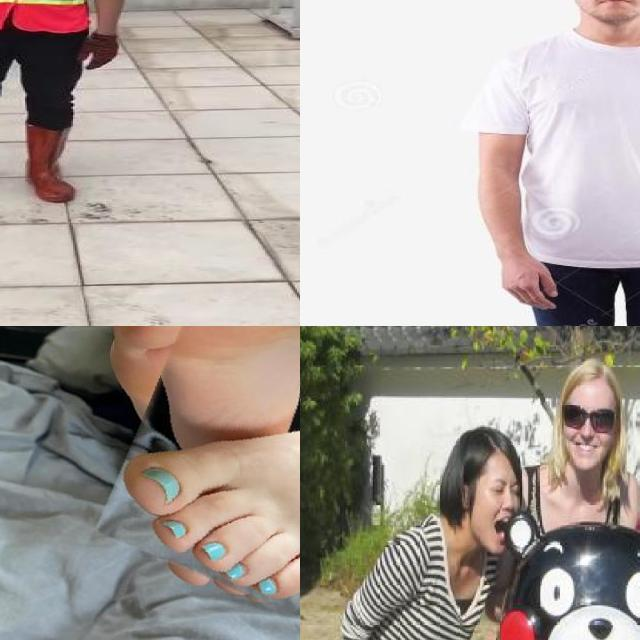Barefoots: (101, 392, 300, 614), (113, 326, 300, 509)
No_Glasses: (481, 474, 525, 504)
boots: (22, 123, 80, 204)
face_nomask: (478, 472, 525, 542), (574, 0, 640, 23)
glasses: (562, 399, 619, 432)
hand_glove: (76, 36, 118, 72)
hand_noglove: (480, 246, 562, 312)
head_nohelmet: (444, 423, 518, 471), (558, 357, 623, 393)
person: (463, 0, 640, 326), (310, 412, 521, 640), (0, 0, 136, 208), (513, 347, 640, 558)
